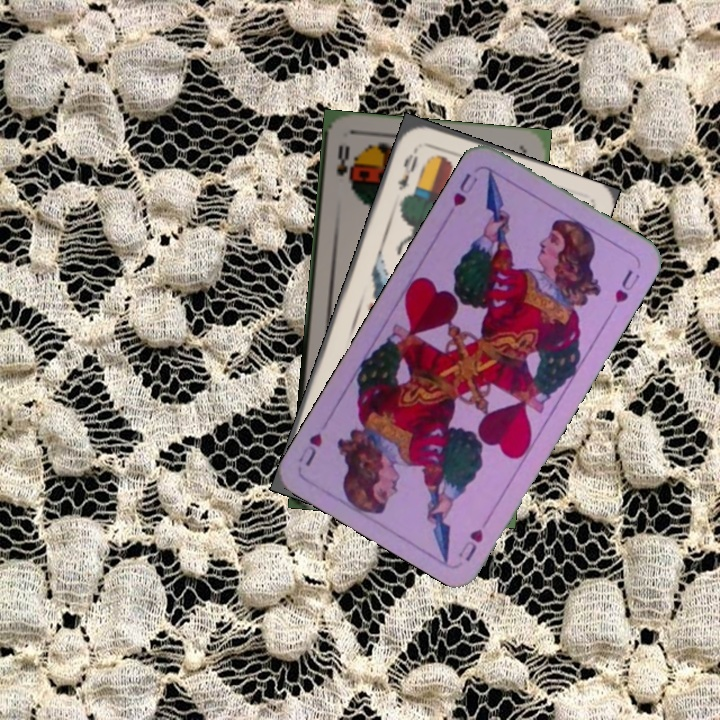EO: (393, 143, 421, 193)
HU: (448, 169, 481, 209), (454, 524, 486, 564)
SO: (333, 140, 353, 185)
